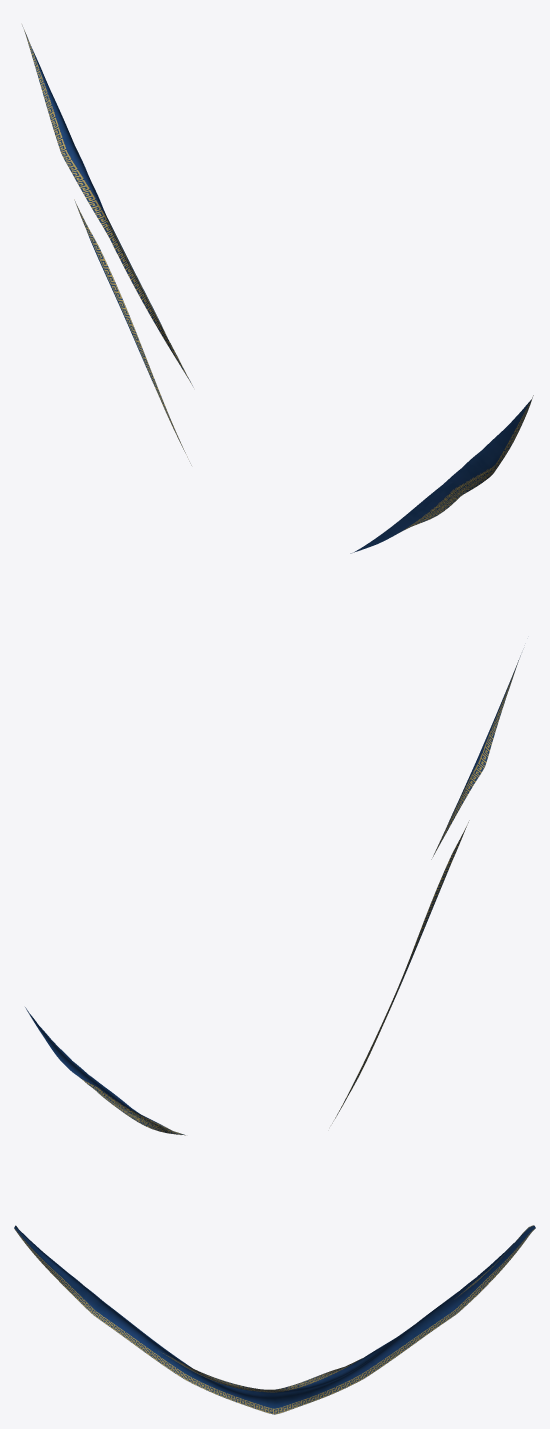
The model's file is SM_fabric_decoration_06.glb.
3 renders of one model, top to bottom at view 1: azimuth 30°, elevation 25°; view 2: azimuth 150°, elevation 25°; view 3: azimuth 270°, elevation 25°, orthographic. The views are drawn at different scales.
Parts seen in each view (by area): view 1: SM_fabric_decoration_06; view 2: SM_fabric_decoration_06; view 3: SM_fabric_decoration_06.
Part boxes in pixels (bbox=[...]): SM_fabric_decoration_06: bbox=[22, 25, 533, 553]; SM_fabric_decoration_06: bbox=[25, 655, 520, 1135]; SM_fabric_decoration_06: bbox=[14, 1225, 535, 1414].
Size of the model in its own units: 1.01 by 11.55 by 28.78.
1 material, 1 textured.
